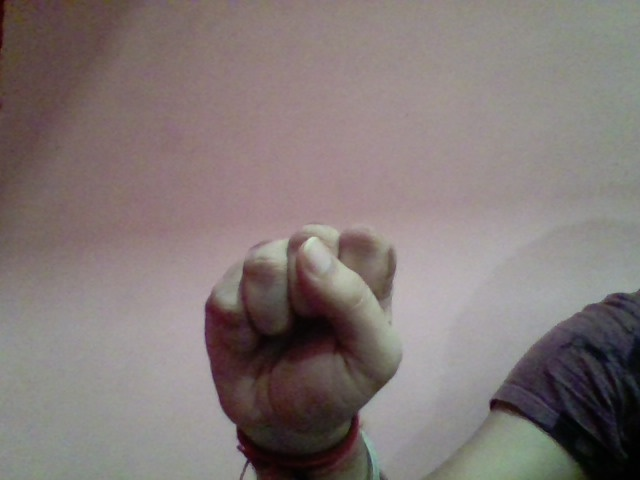s: (193, 213, 412, 442)
